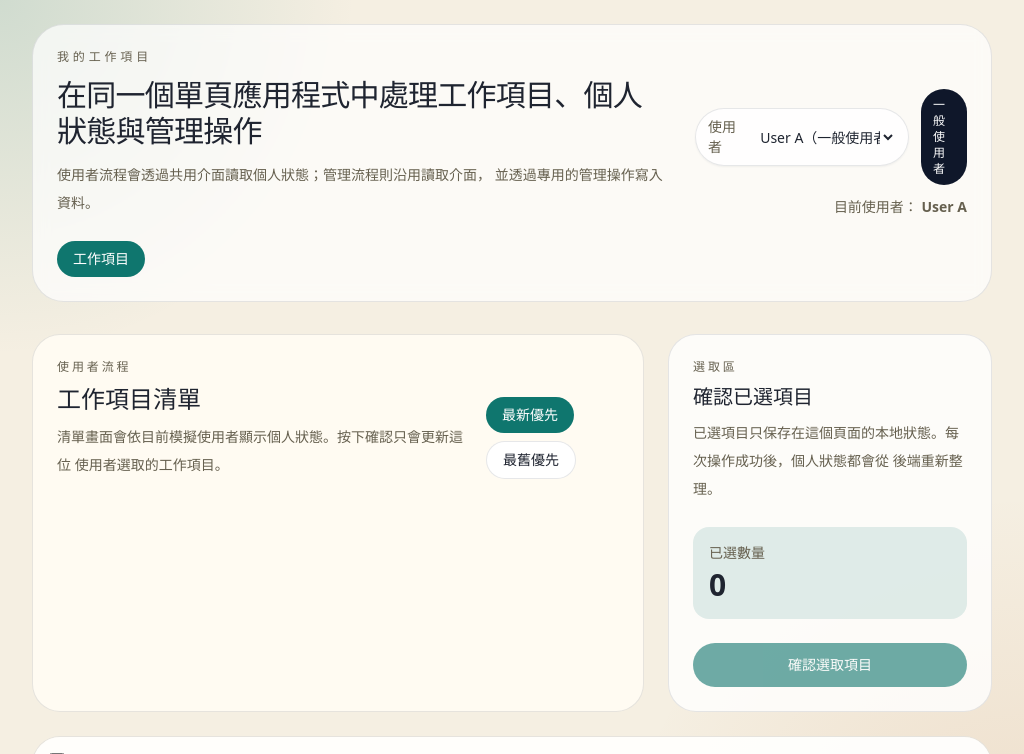
UserSwitcher › UserSwitcher_WhenProfileChanges_UpdatesStoredMockUserAndShowsAdminEntry
Select "Admin（管理員）" in the dropdown at {"x": 826, "y": 137}, box [756,126,896,148]
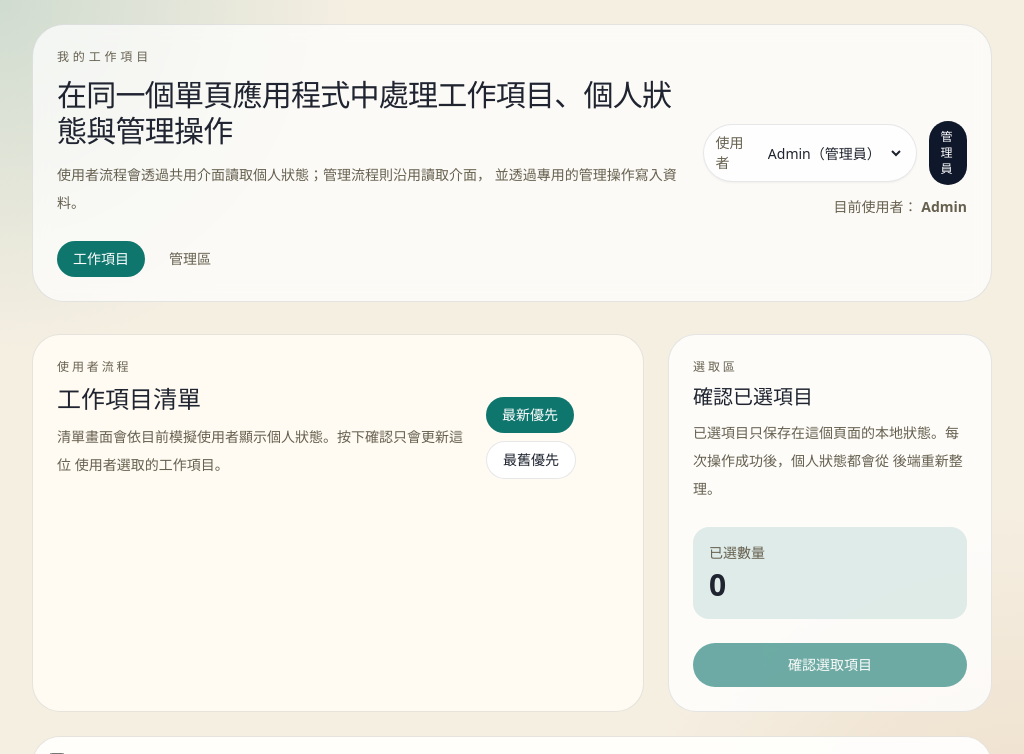
Check: the text "Admin" is shown, box [921,197,967,216]
Check: the link "管理區" is shown, box [169,249,211,268]
